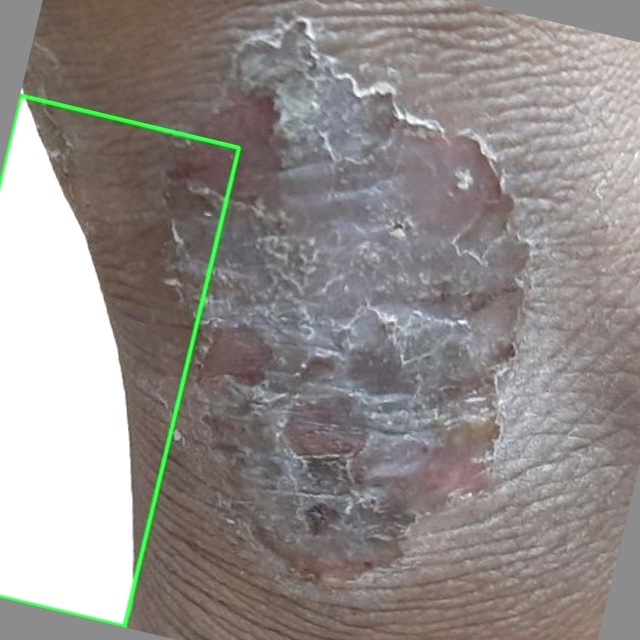Contact Dermatitis: (0, 95, 239, 626)
